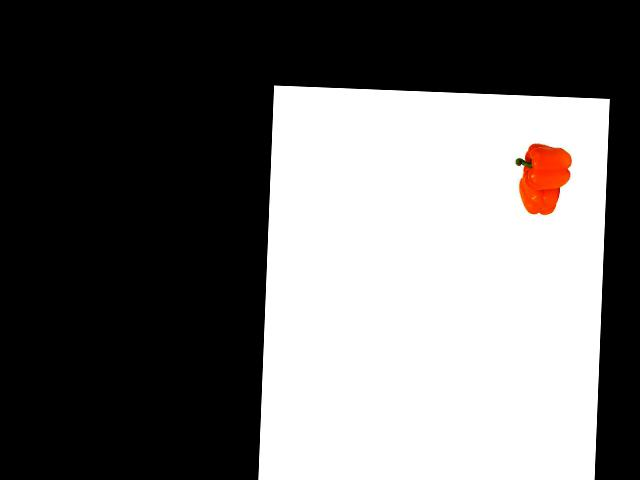bell_pepper: (516, 172, 566, 218)
